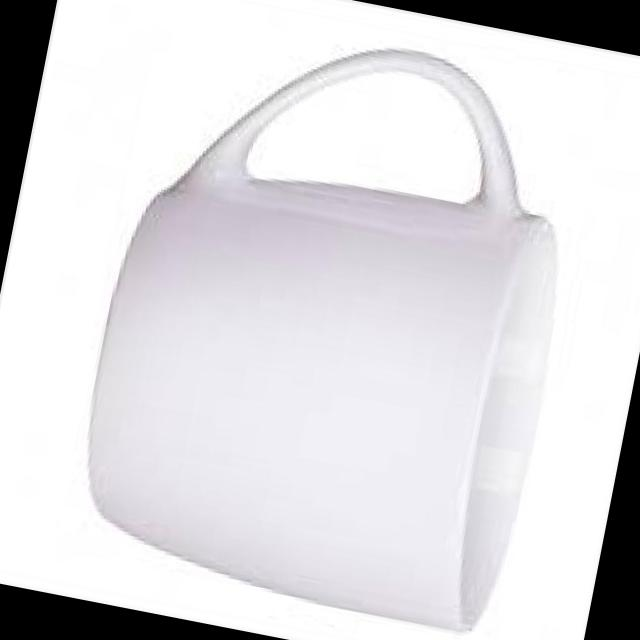Coffee Mug: (60, 4, 603, 636)
